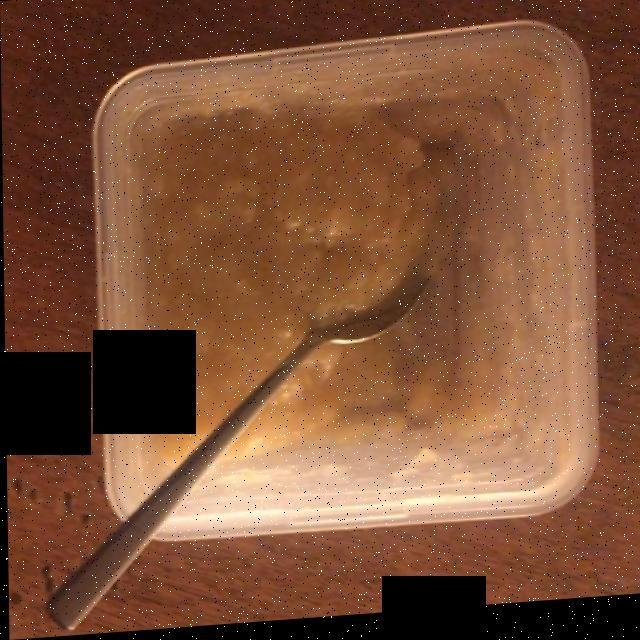applesauce: (135, 97, 466, 476)
